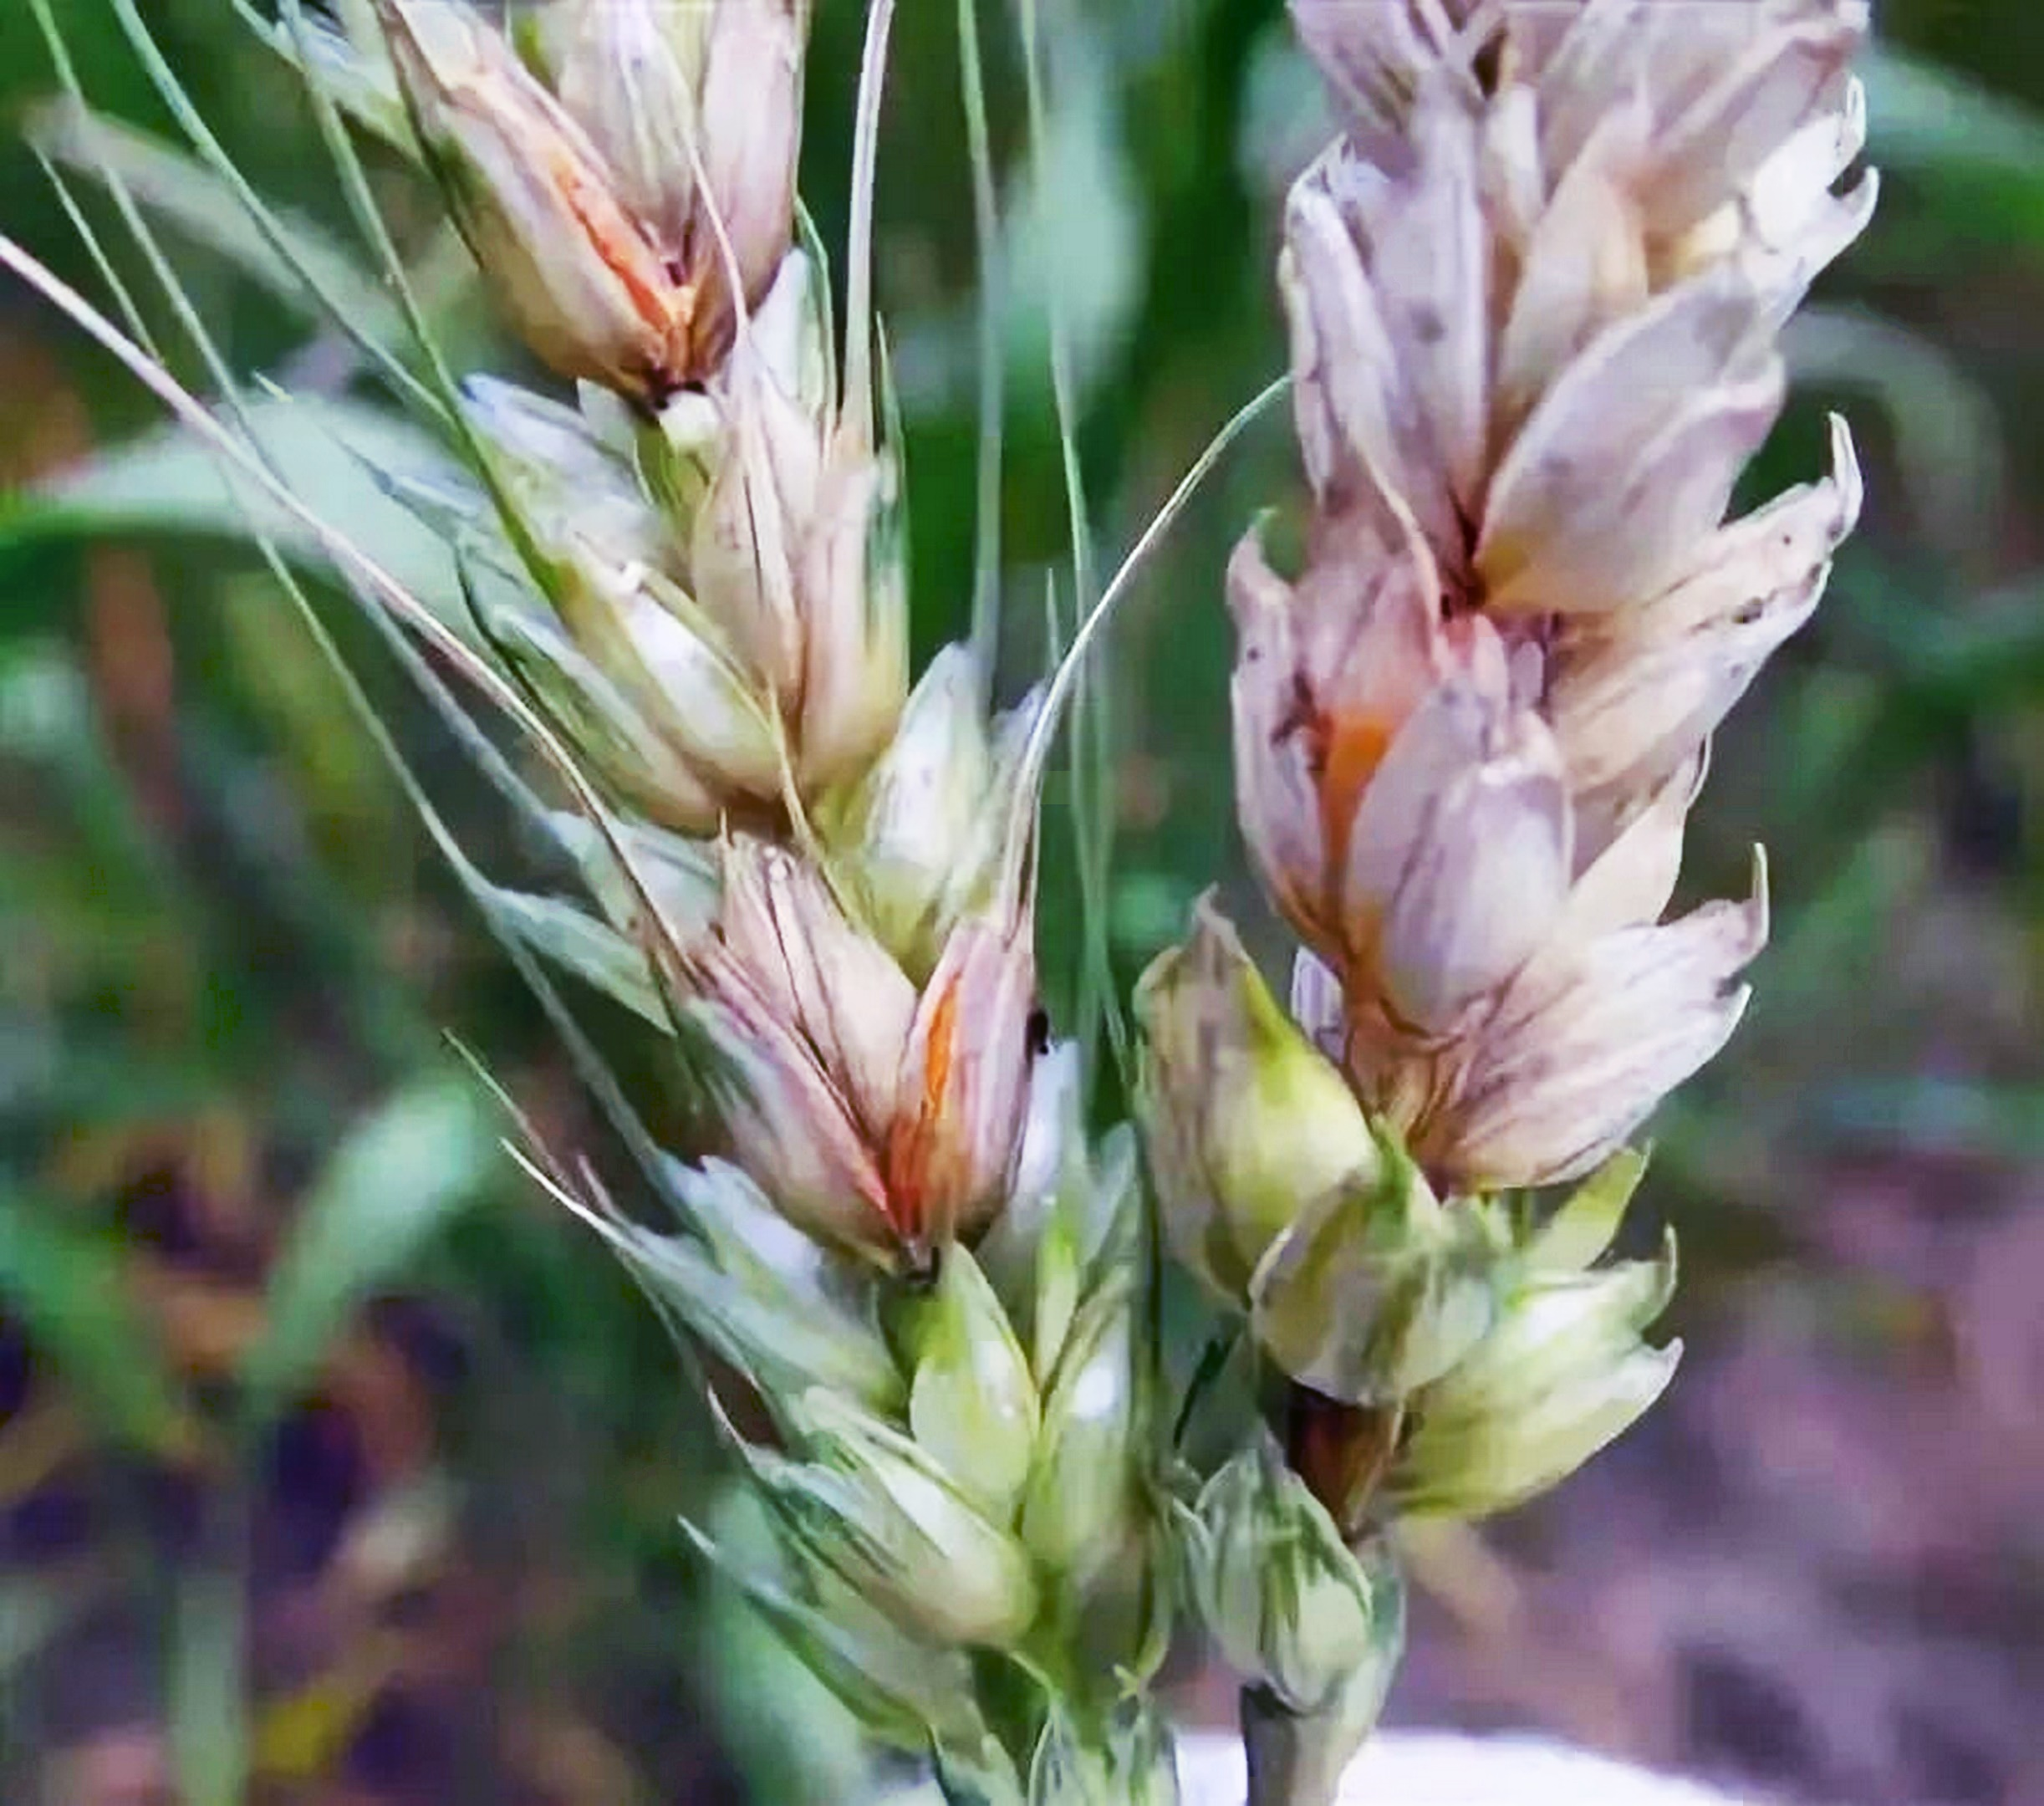Wheat scab: (366, 56, 1169, 1712)
